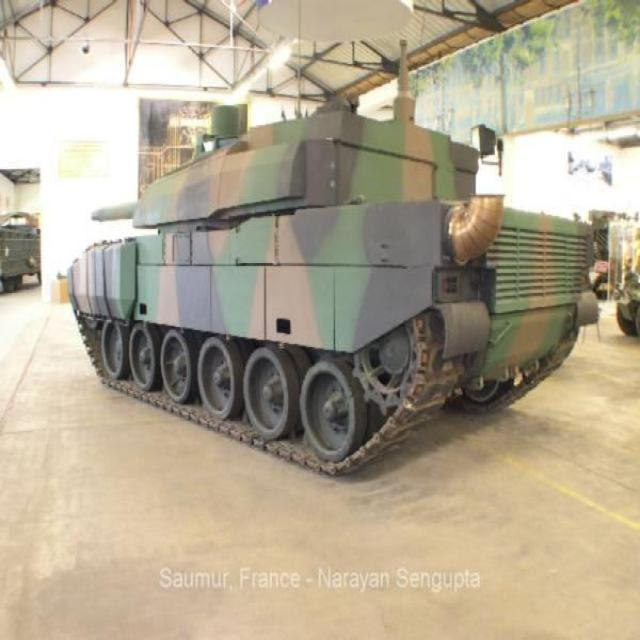Tanks: (67, 56, 573, 553)
